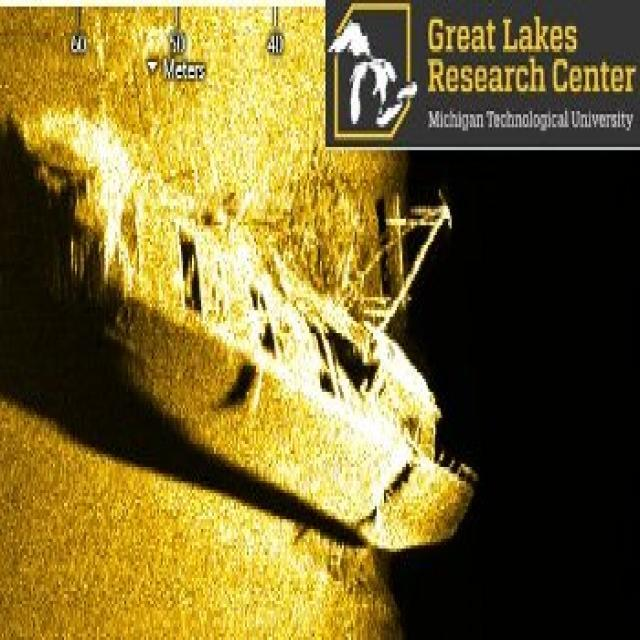shipwreck: (14, 107, 473, 548)
